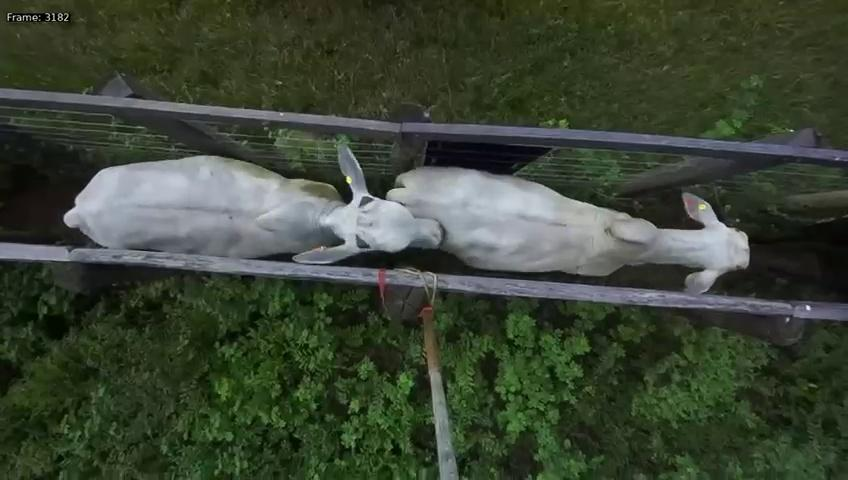cattle: (59, 134, 449, 272), (378, 159, 752, 296)
